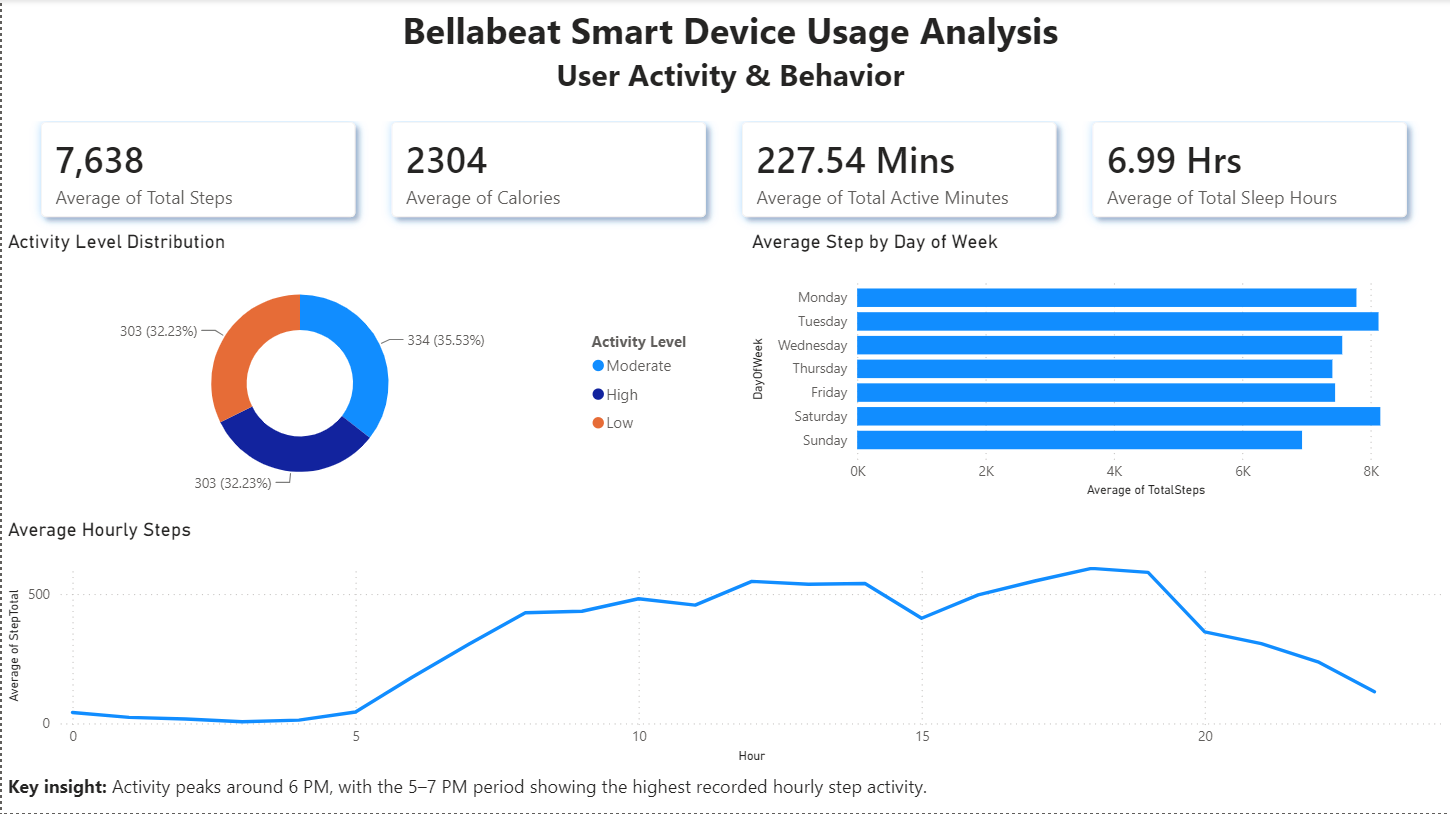

What the dashboard file says about the page in this screenshot:
{"tool":"powerbi","page":{"name":"Page 1","canvas":[1280,720],"ordinal":0},"visuals":[{"type":"cardVisual","fields":{"Data":["Avg(dailyActivity_cleaned.TotalSteps)","Avg(dailyActivity_cleaned.Calories)","Avg(dailyActivity_cleaned.TotalActiveMinutes)","Avg(sleepDay_cleaned.TotalSleepHours)"]},"box":[5.7,79,1269.5,142.9],"z":0},{"type":"textbox","box":[9.4,0,1269.9,107.7],"z":1000},{"type":"donutChart","title":"Activity Level Distribution","fields":{"Category":["dailyActivity_cleaned.ActivityLevel"],"Y":["CountNonNull(dailyActivity_cleaned.ActivityLevel)"]},"box":[0,204.4,625.4,240.8],"z":2000},{"type":"barChart","title":"Average Step by Day of Week","fields":{"Y":["Avg(dailyActivity_cleaned.TotalSteps)"],"Category":["dailyActivity_cleaned.DayOfWeek"]},"box":[658.7,204.4,620.8,240.8],"z":3000},{"type":"lineChart","title":"Average Hourly Steps","fields":{"Y":["Avg(hourlySteps_cleaned.StepTotal)"],"Category":["hourlySteps_cleaned.Hour"]},"box":[0,458.9,1278.8,220.7],"z":4000},{"type":"textbox","box":[0,679.6,1278.8,40.9],"z":5000}]}

Visuals, with their boxes in screenshot pixels (x1, y1, x2, y2), scaled from the page's 1280x720 canvas onto the 1450x814 screenshot:
cardVisual - Avg(dailyActivity_cleaned.TotalSteps) x Avg(dailyActivity_cleaned.Calories): [x1=6, y1=89, x2=1445, y2=251]
textbox: [x1=11, y1=0, x2=1449, y2=122]
"Activity Level Distribution" donutChart: [x1=0, y1=231, x2=708, y2=503]
"Average Step by Day of Week" barChart: [x1=746, y1=231, x2=1449, y2=503]
"Average Hourly Steps" lineChart: [x1=0, y1=519, x2=1449, y2=768]
textbox: [x1=0, y1=768, x2=1449, y2=813]
